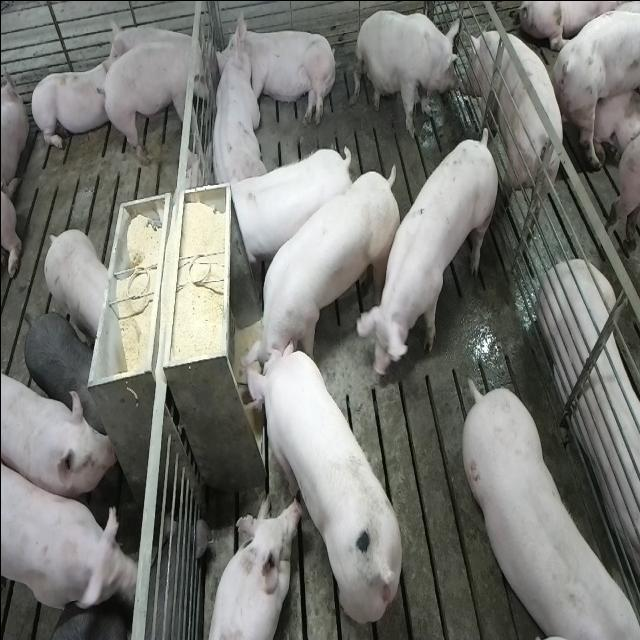Feeding: (240, 338, 404, 624), (238, 163, 402, 385)
Lateral_lying: (212, 10, 338, 128)
Sitting: (354, 8, 460, 138)
Standing: (464, 383, 640, 640), (362, 121, 500, 378), (2, 449, 136, 622), (464, 27, 562, 237), (225, 144, 355, 270), (3, 368, 117, 498), (100, 32, 208, 167), (560, 0, 640, 160), (21, 307, 105, 433), (42, 228, 110, 344)
Sternal_lying: (540, 261, 640, 607), (202, 494, 297, 640), (206, 30, 264, 190), (28, 46, 114, 152), (102, 21, 186, 76)
